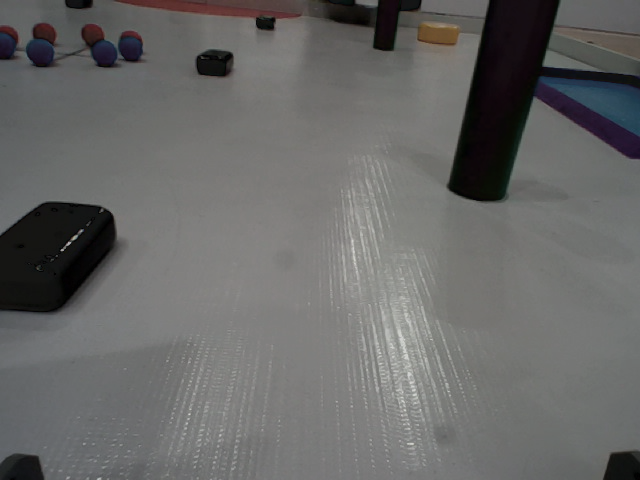black: (1, 194, 129, 310), (197, 45, 236, 76), (251, 14, 273, 28)
blue: (93, 43, 121, 66), (24, 41, 48, 62), (120, 37, 142, 56), (1, 35, 16, 62)
red: (31, 22, 59, 43), (75, 27, 105, 46), (1, 27, 22, 47)
yellow: (418, 20, 461, 42)
zhuzi: (438, 1, 563, 207), (367, 1, 405, 53)
